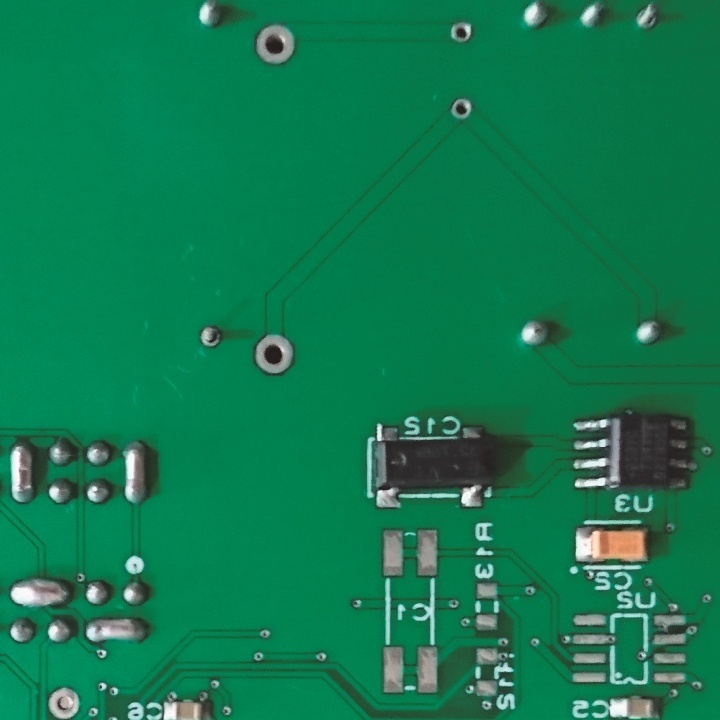F: (251, 329, 298, 377), (252, 22, 301, 68), (46, 686, 81, 720), (630, 2, 665, 32), (447, 95, 476, 123), (198, 322, 223, 351), (450, 19, 474, 46)
P: (84, 613, 150, 646), (6, 575, 74, 607), (120, 439, 150, 507), (8, 438, 35, 506)
